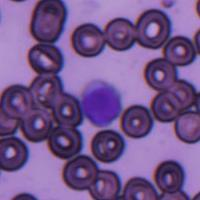L: (82, 78, 121, 127)
